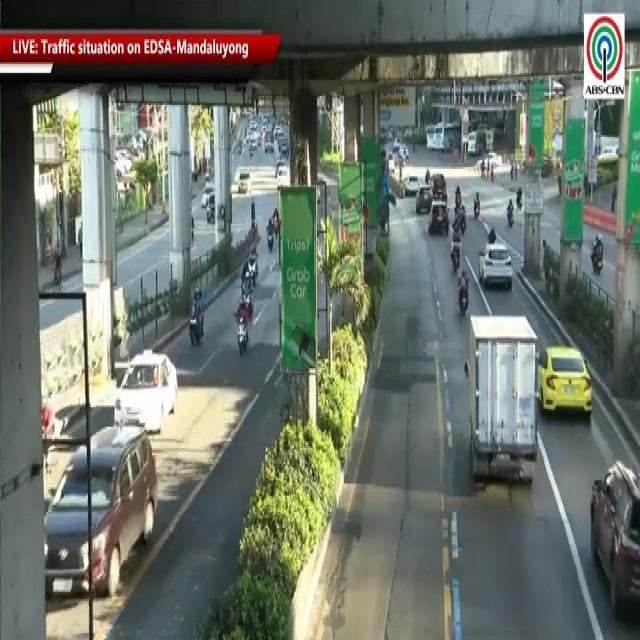car: (45, 432, 158, 606), (583, 461, 640, 618), (535, 345, 603, 421), (471, 238, 525, 286), (429, 199, 451, 244)
motorbike: (235, 286, 253, 366), (188, 284, 206, 352), (457, 257, 473, 328), (240, 258, 259, 316)
truck: (466, 307, 542, 508)
